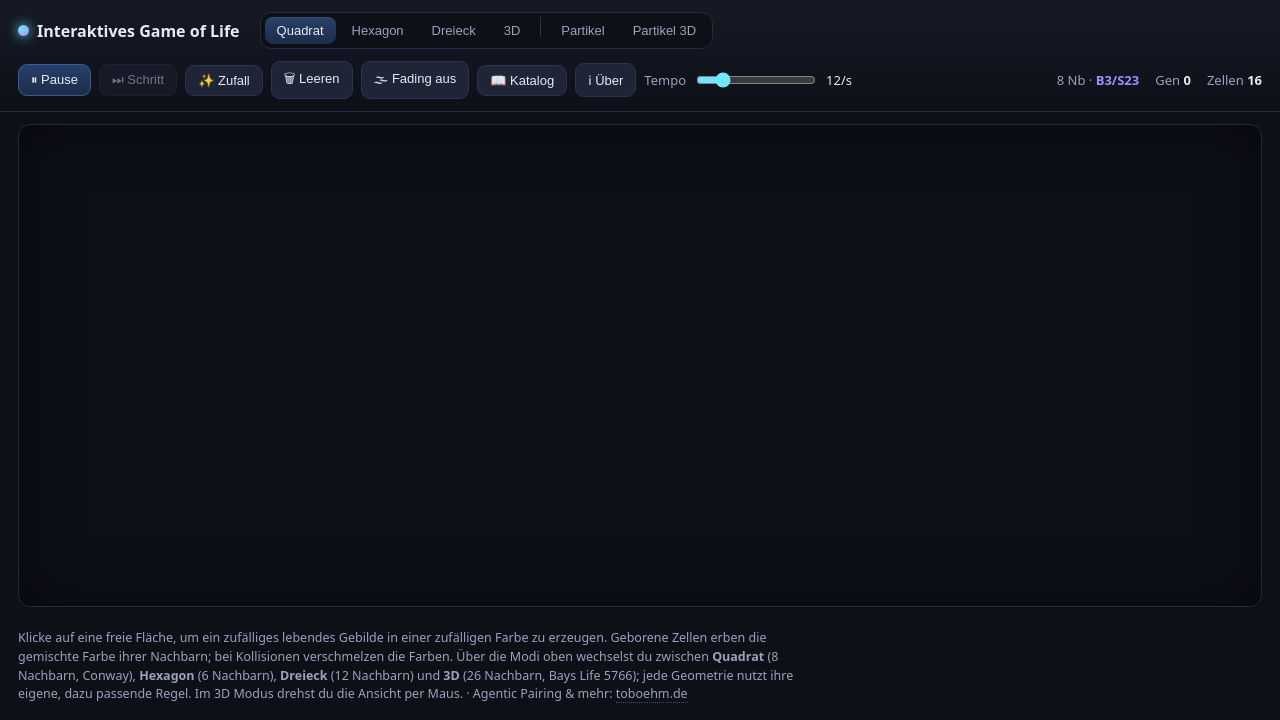
it: Particle Life mode › explains Particle Life rather than Conway in the About modal
Click the button "Partikel".
click(583, 30)  # box [549,17,617,44]
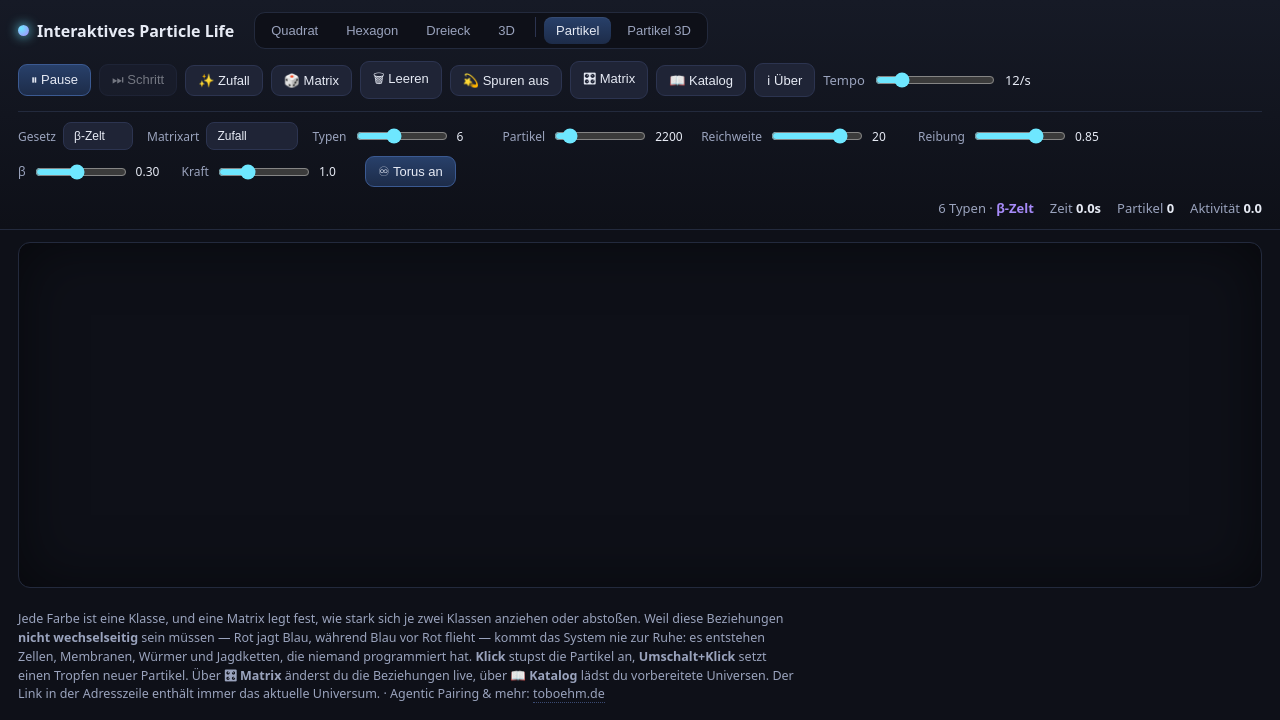
Click the button "ℹ Über".
click(785, 80)  # box [754,63,815,97]
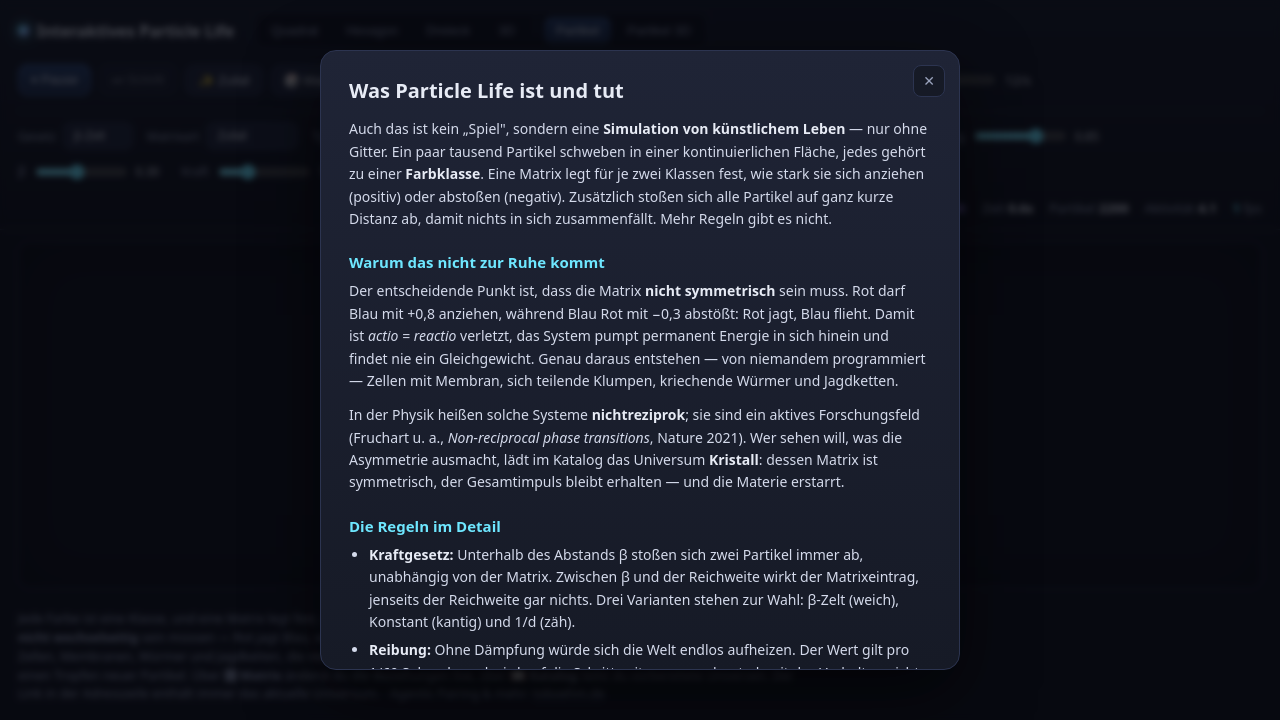
Check: the heading "Was Particle Life ist und tut" is shown, box [349,77,624,104]
